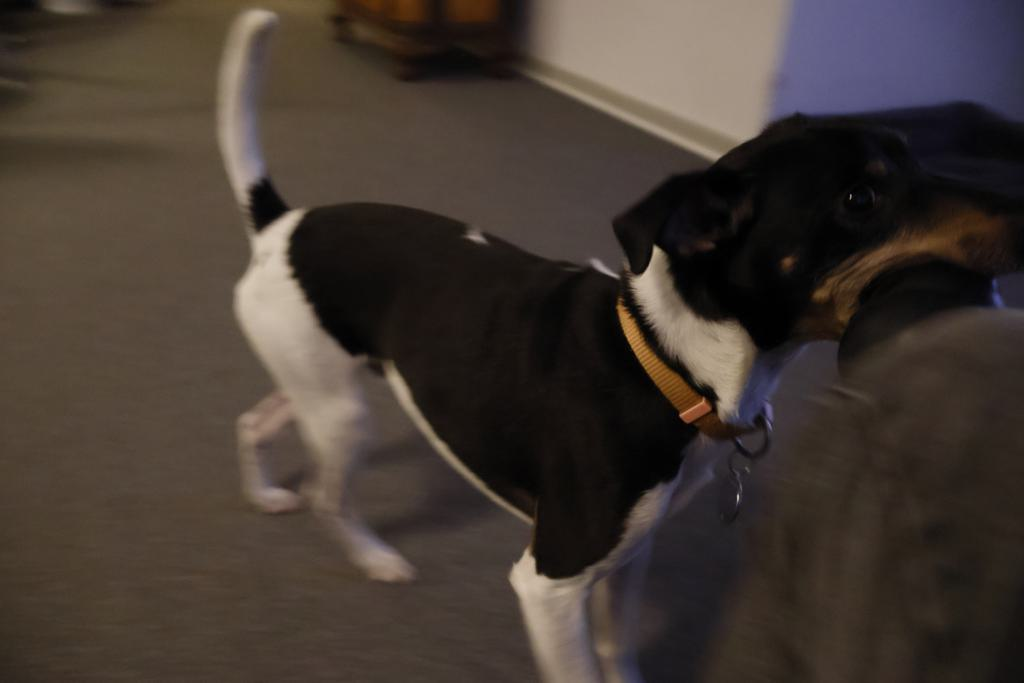Dog: (217, 4, 1024, 683)
Humanoid: (679, 299, 1024, 683)
